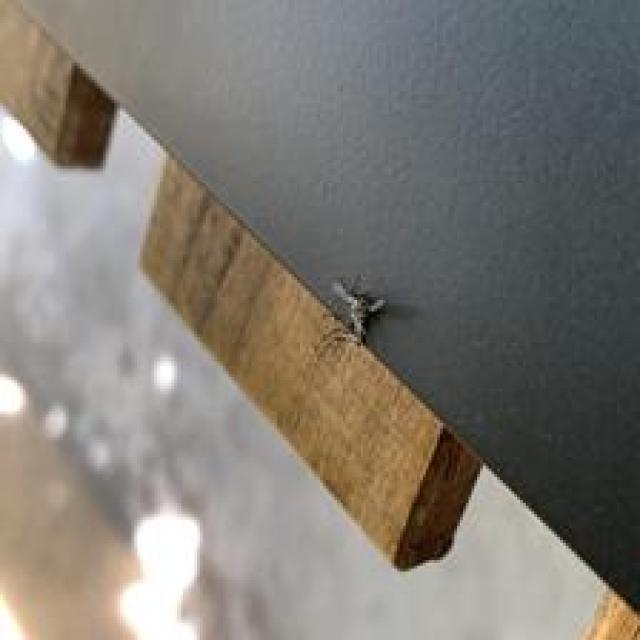Aedes albopictus: (330, 271, 387, 346)
